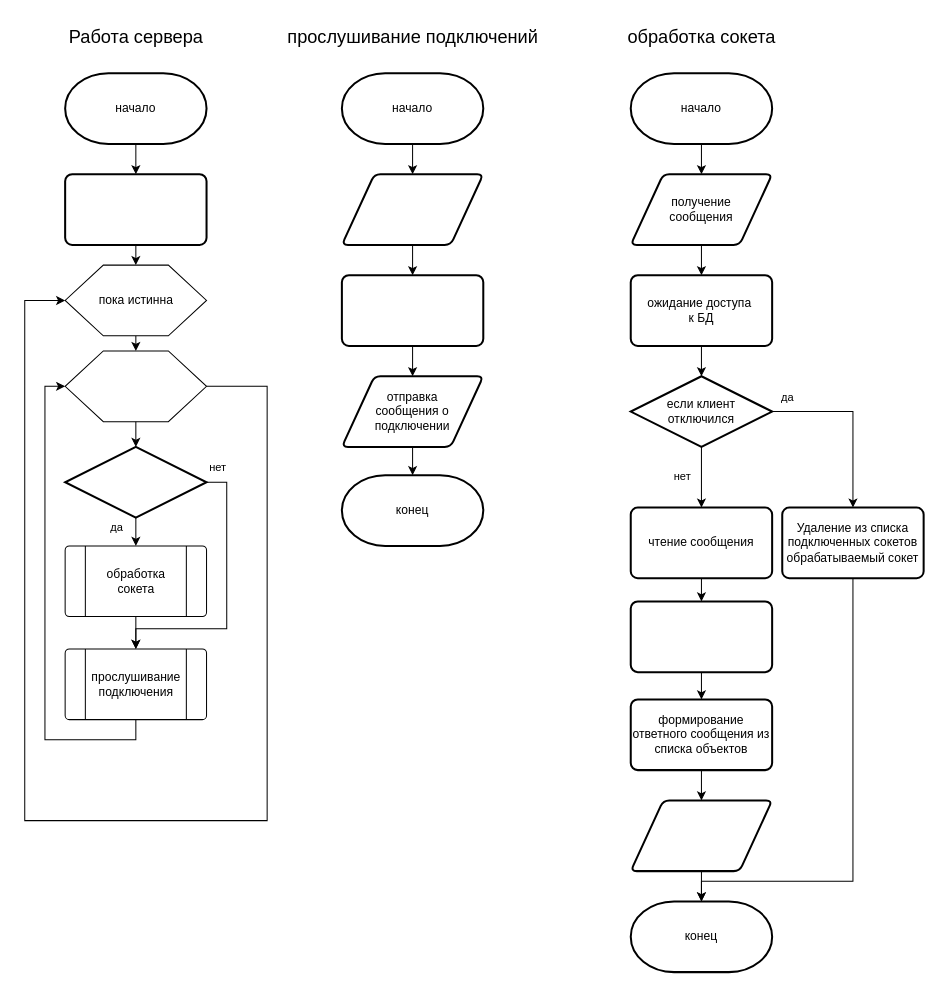
The diagram is 942 pixels wide and 990 high, and some of its shapes have lost their labels. The shapes that lost their labels are listed below. From the top down, each one's box as (x1, y1, x2, y2) in pixels, then its label:
(64, 173, 207, 245): запуск сервера
(340, 173, 484, 245): получение подключения
(340, 274, 484, 346): добавление в список подключенных сокетов нового сокета
(64, 350, 207, 422): обход подключенных сокетов
(64, 445, 207, 518): если сокет не обрабатывается
(629, 600, 773, 673): обработка команды
(629, 799, 773, 872): отправка ответного сообщения
